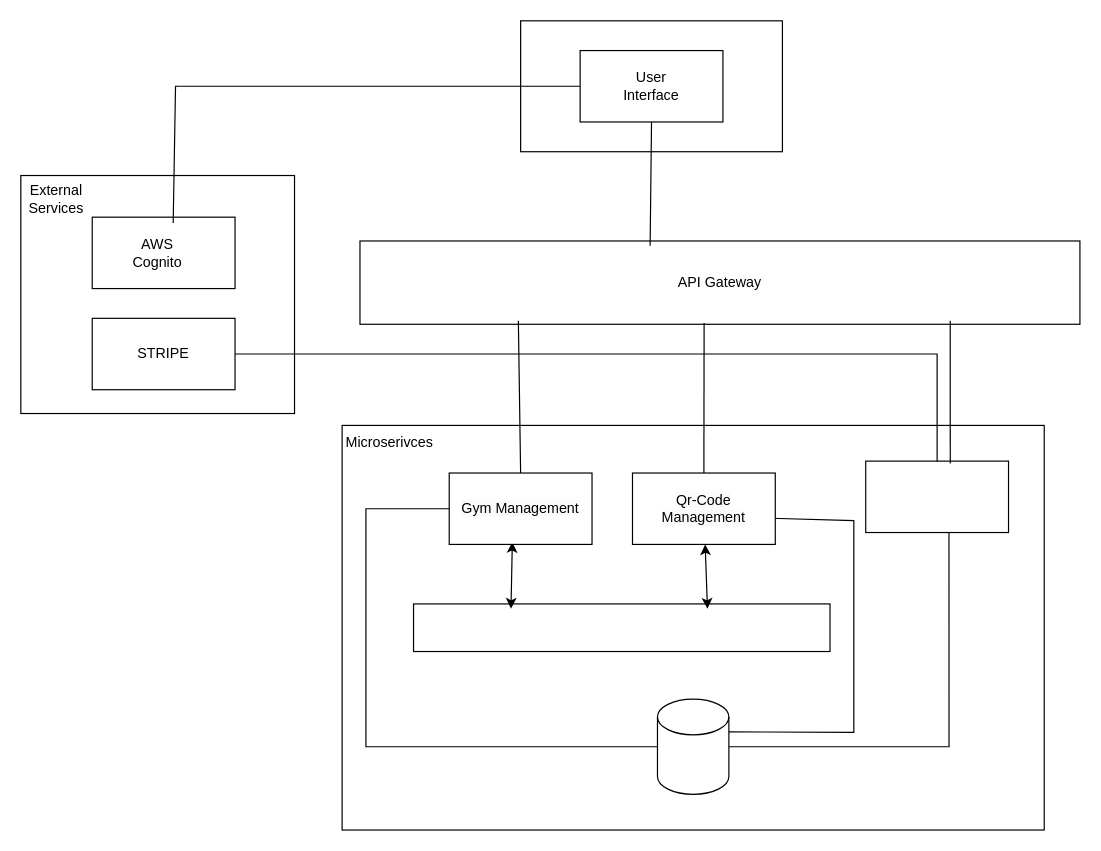
This 1101x851 diagram has some shape labels left out. The centre of each missing label's shape, as x and y in pixels:
"DB" belongs at point (692, 746).
"Message Queue" belongs at point (621, 627).
"Payments" belongs at point (937, 496).
